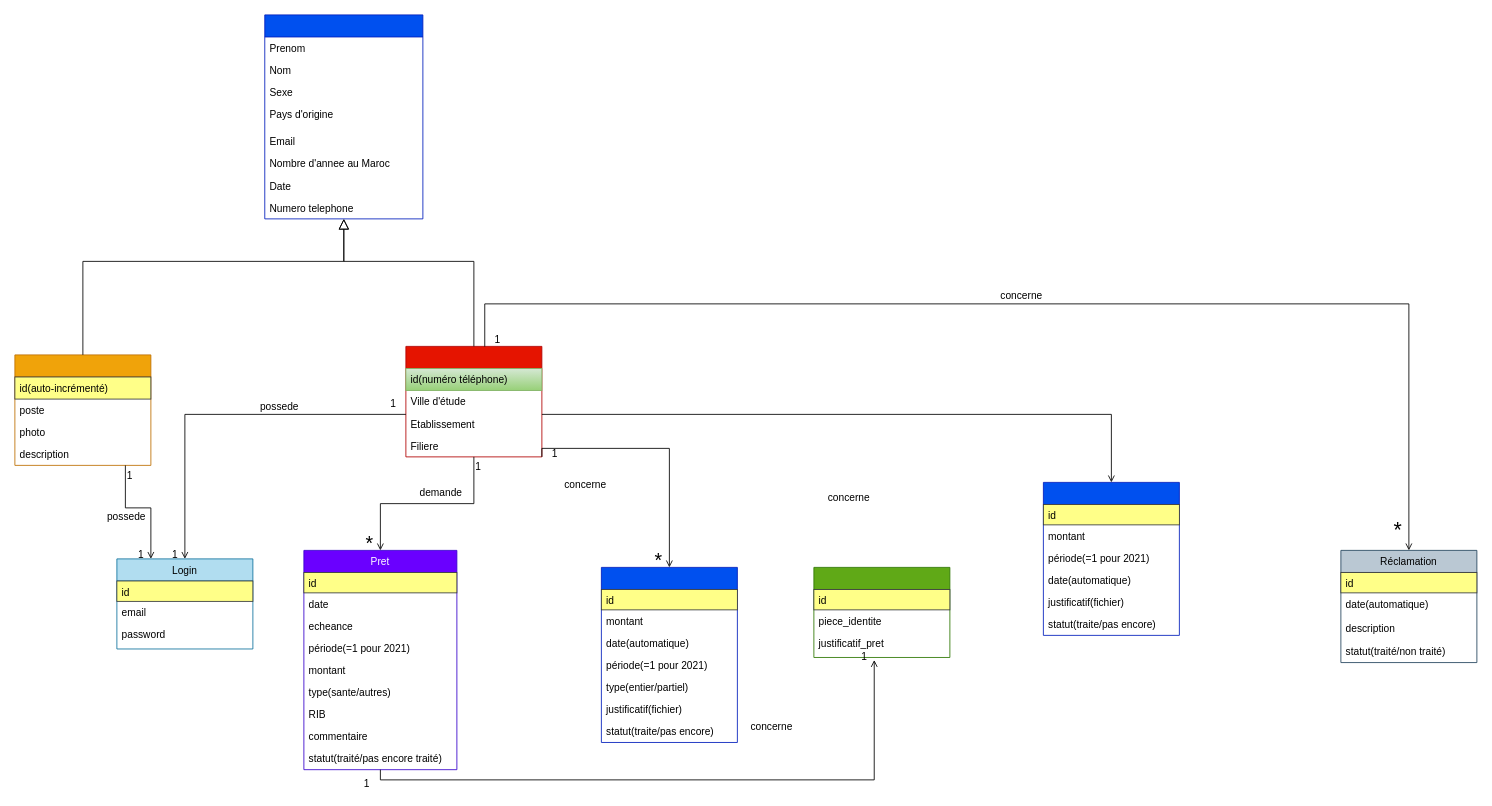
Image size: 1492x806. Some labels were removed from this diagram. Here are the shapes that lost their labels. From the top down, the box of each, then its label:
(264, 14, 423, 219): Personne
(14, 354, 151, 465): Equipe
(405, 346, 542, 457): Etudiant
(1043, 482, 1179, 635): Cotisation
(813, 567, 950, 657): Media
(601, 567, 737, 742): Remboursement
